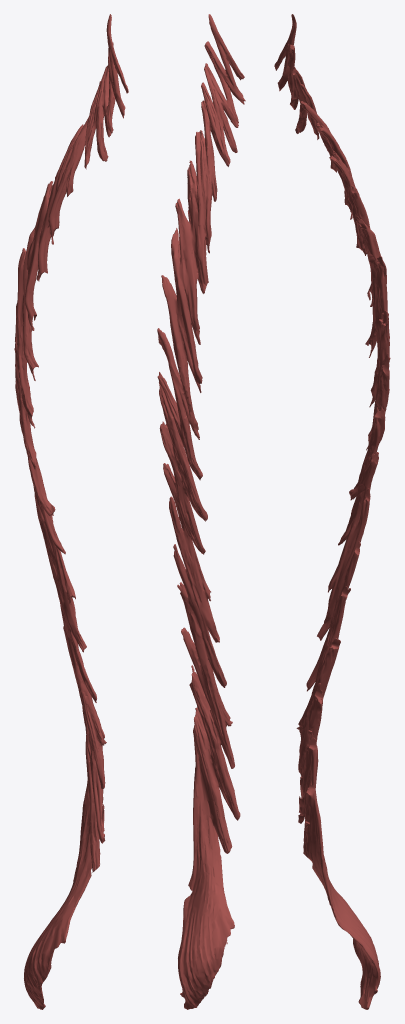
The model's file is FMA22878.glb.
3 renders of one model, left to right at view 1: azimuth 90°, elevation 25°; view 2: azimuth 150°, elevation 25°; view 3: azimuth 270°, elevation 25°, orthographic. The views are drawn at different scales.
Parts seen in each view (by area): view 1: FMA22878; view 2: FMA22878; view 3: FMA22878.
Part boxes in pixels (x1=…): FMA22878: x1=14, y1=14, x2=128, y2=1009; FMA22878: x1=157, y1=14, x2=245, y2=1009; FMA22878: x1=274, y1=14, x2=390, y2=1009.
Size of the model in its own units: 0.037 by 0.6151 by 0.0645.
